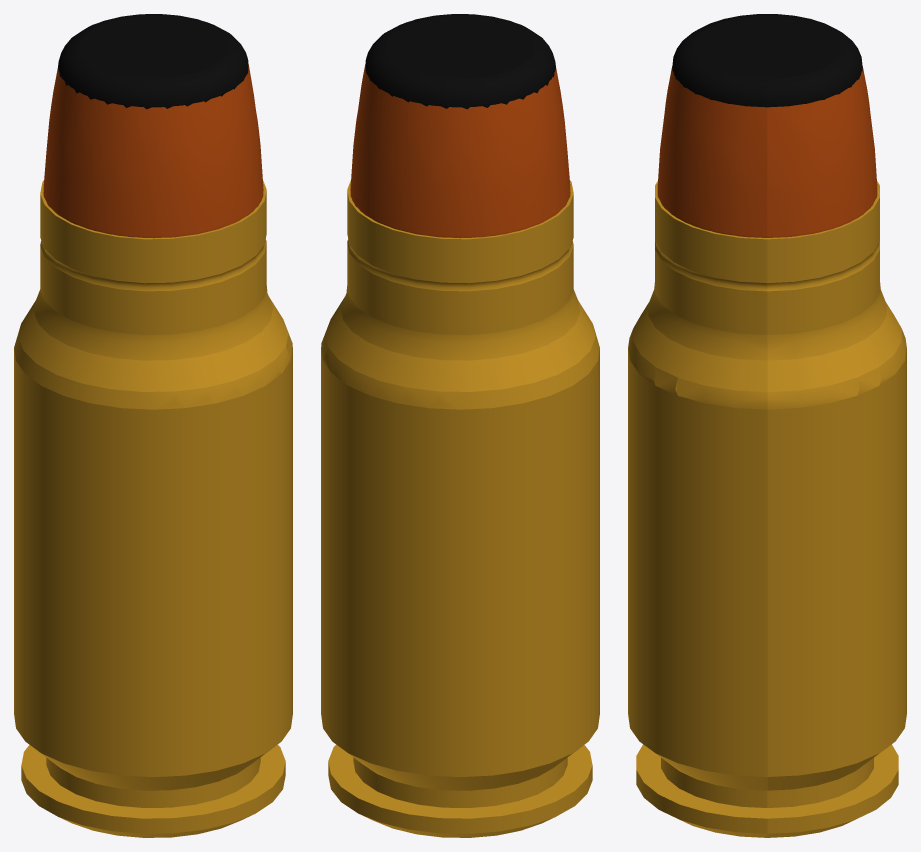
3 renders of one model, left to right at view 1: azimuth 30°, elevation 25°; view 2: azimuth 150°, elevation 25°; view 3: azimuth 270°, elevation 25°, orthographic.
Visible parts, largest first — view 1: o4_IndexedFaceSet_o4_IndexedFaceSet.010, o12_IndexedFaceSet.001_o12_IndexedFaceSet.014, o12_IndexedFaceSet_o12_IndexedFaceSet.013; view 2: o4_IndexedFaceSet_o4_IndexedFaceSet.010, o12_IndexedFaceSet.001_o12_IndexedFaceSet.014, o12_IndexedFaceSet_o12_IndexedFaceSet.013; view 3: o4_IndexedFaceSet_o4_IndexedFaceSet.010, o12_IndexedFaceSet.001_o12_IndexedFaceSet.014, o12_IndexedFaceSet_o12_IndexedFaceSet.013.
Part boxes in pixels (x1,y1,x2,y2): o4_IndexedFaceSet_o4_IndexedFaceSet.010: [14, 180, 292, 837]; o12_IndexedFaceSet.001_o12_IndexedFaceSet.014: [43, 64, 263, 238]; o12_IndexedFaceSet_o12_IndexedFaceSet.013: [58, 14, 248, 109]; o4_IndexedFaceSet_o4_IndexedFaceSet.010: [321, 180, 599, 837]; o12_IndexedFaceSet.001_o12_IndexedFaceSet.014: [350, 64, 570, 238]; o12_IndexedFaceSet_o12_IndexedFaceSet.013: [365, 14, 555, 109]; o4_IndexedFaceSet_o4_IndexedFaceSet.010: [628, 181, 906, 837]; o12_IndexedFaceSet.001_o12_IndexedFaceSet.014: [657, 65, 877, 237]; o12_IndexedFaceSet_o12_IndexedFaceSet.013: [672, 14, 862, 107].
Size of the model in its own units: 13.74 by 40.56 by 13.77.
